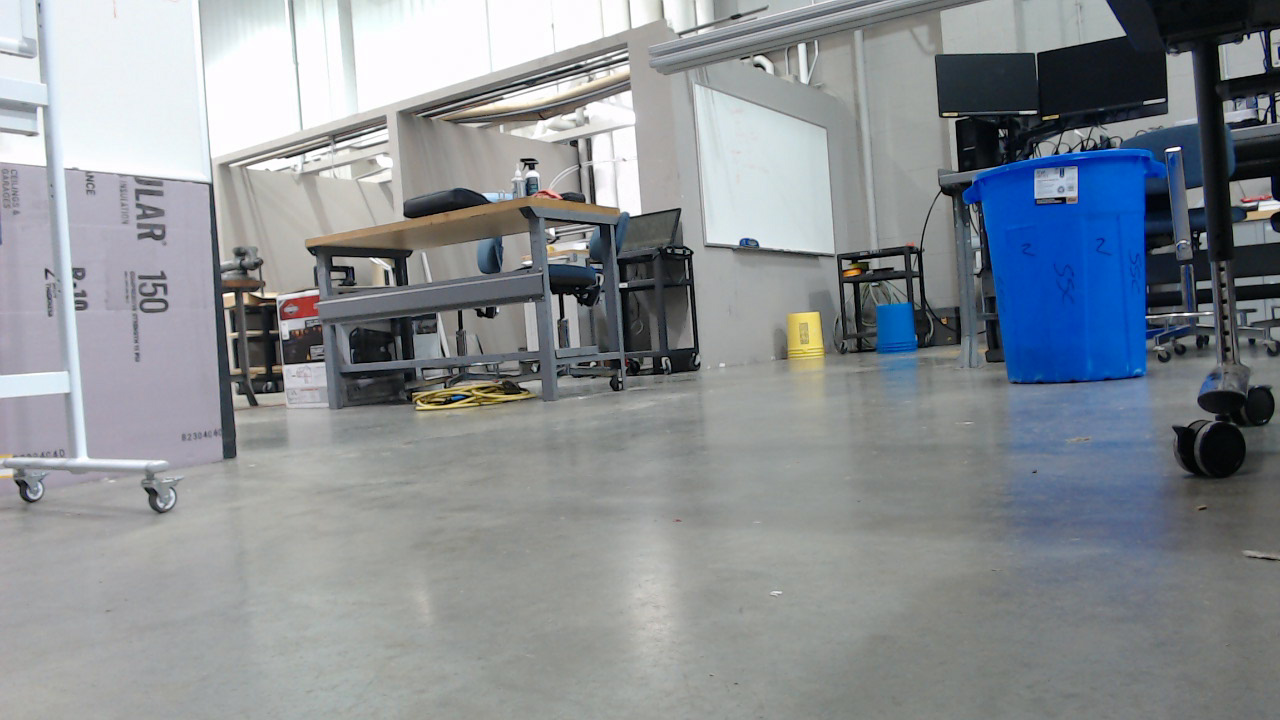blue_bucket: (879, 306, 924, 362)
yellow_bucket: (789, 313, 831, 367)
